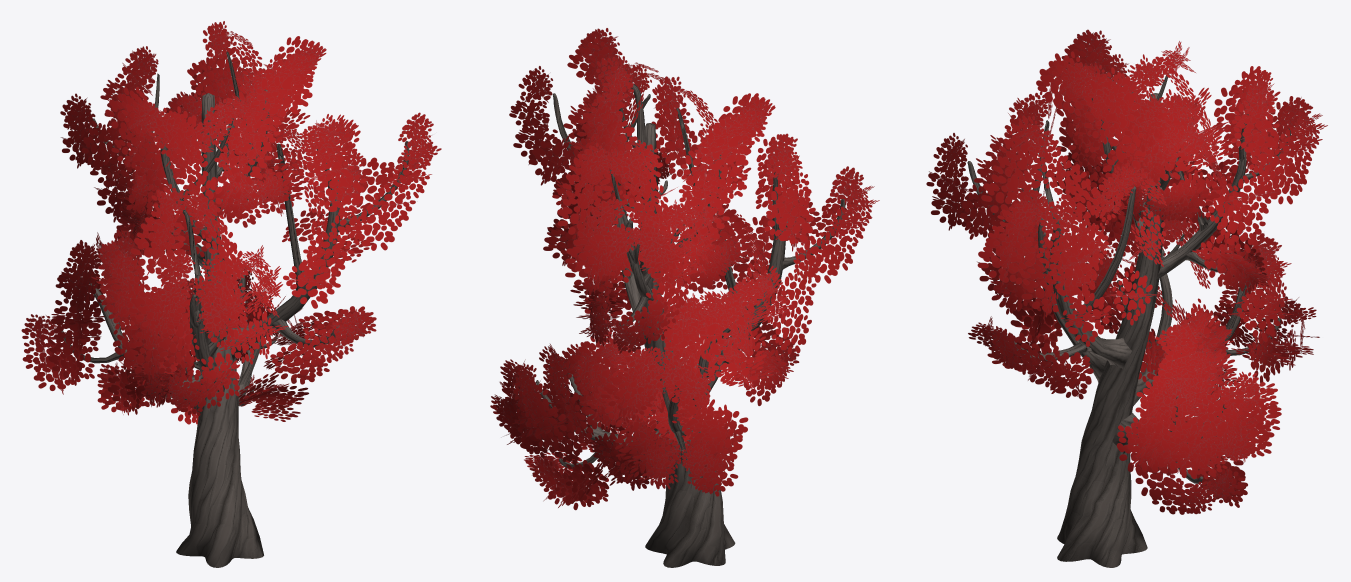
File: S1Tree2.glb
3 renders of one model, left to right at view 1: azimuth 30°, elevation 25°; view 2: azimuth 150°, elevation 25°; view 3: azimuth 270°, elevation 25°, orthographic. The views are drawn at different scales.
Visible parts, largest first — view 1: TwistedTree_3; view 2: TwistedTree_3; view 3: TwistedTree_3.
Boxes of the visible parts, bbox=[...] form: TwistedTree_3: bbox=[21, 21, 441, 567]; TwistedTree_3: bbox=[490, 28, 879, 567]; TwistedTree_3: bbox=[926, 29, 1327, 567].
Bounding box in the file's own units: 11.36 × 16.07 × 11.51.
2 materials, 2 textured.
